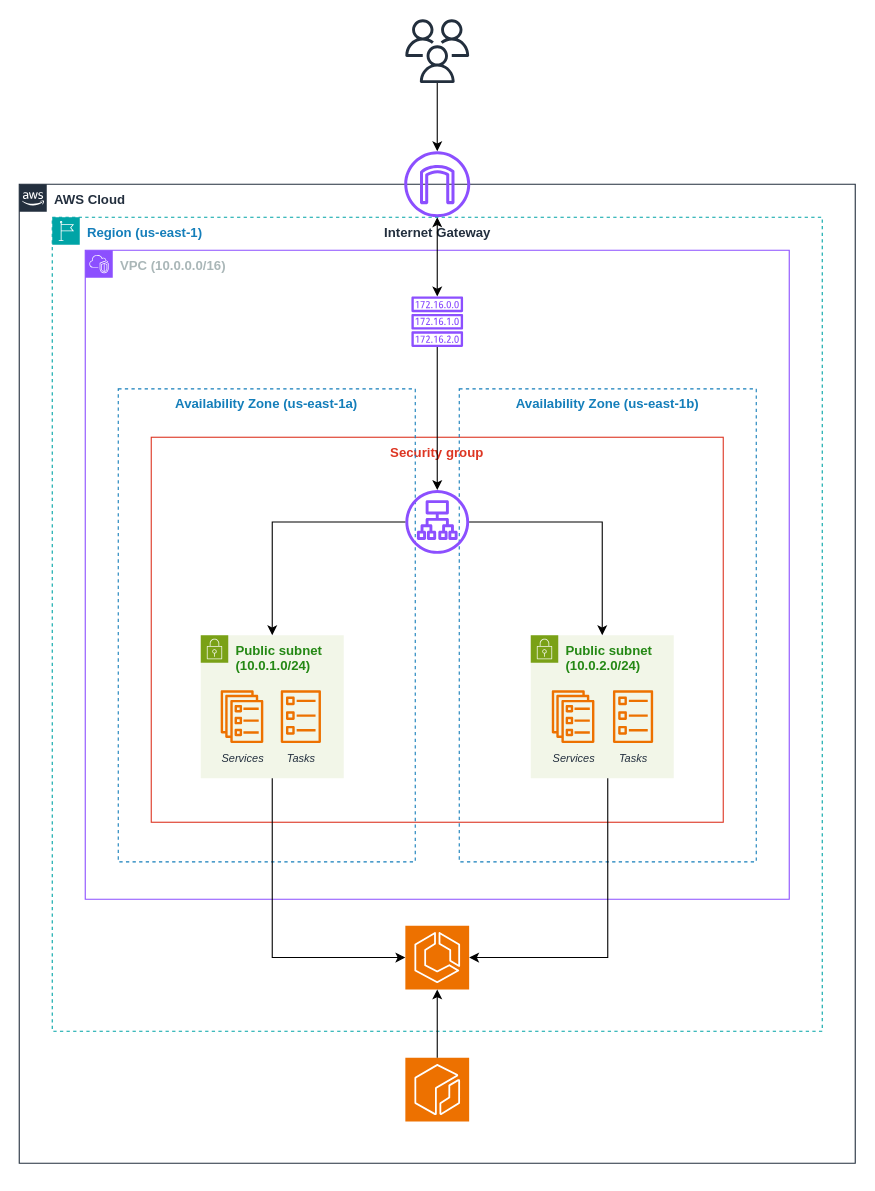
Image size: 875x1191. Some labels were removed from this diagram. Each missing label, with the centre of its shape:
"Application Load Balancer" goes at (437,521).
"Cluster do ECS" goes at (436,957).
"ECR" goes at (436,1089).
"Route table" goes at (437,321).
"Usuários" goes at (437,50).
